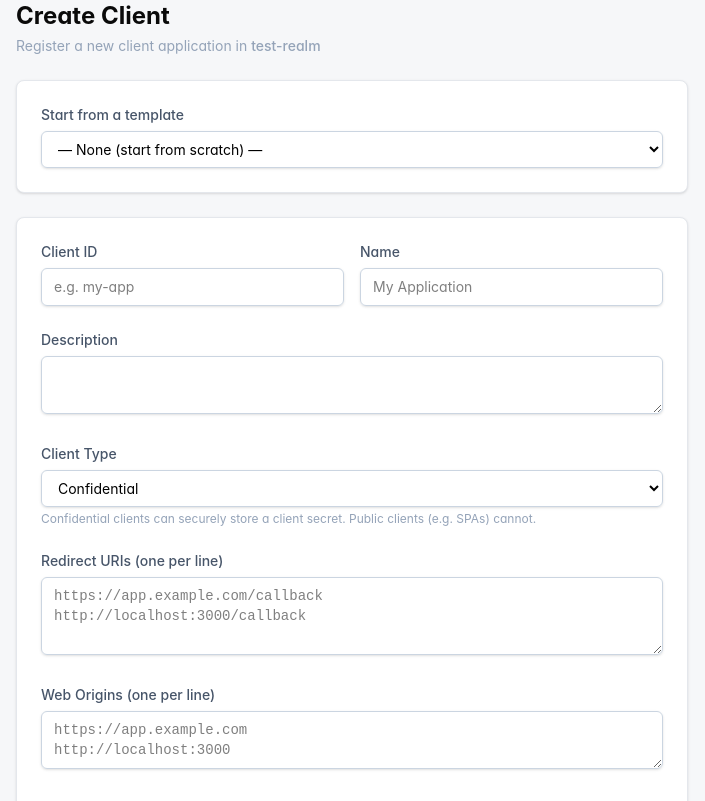
Test: ClientCreatePage › shows an error message when the API returns an error
Type "duplicate" into the field labelled "Client ID".
click(192, 287); type("duplicate")  # box x1=41 y1=268 x2=344 y2=306
(page scrolled)
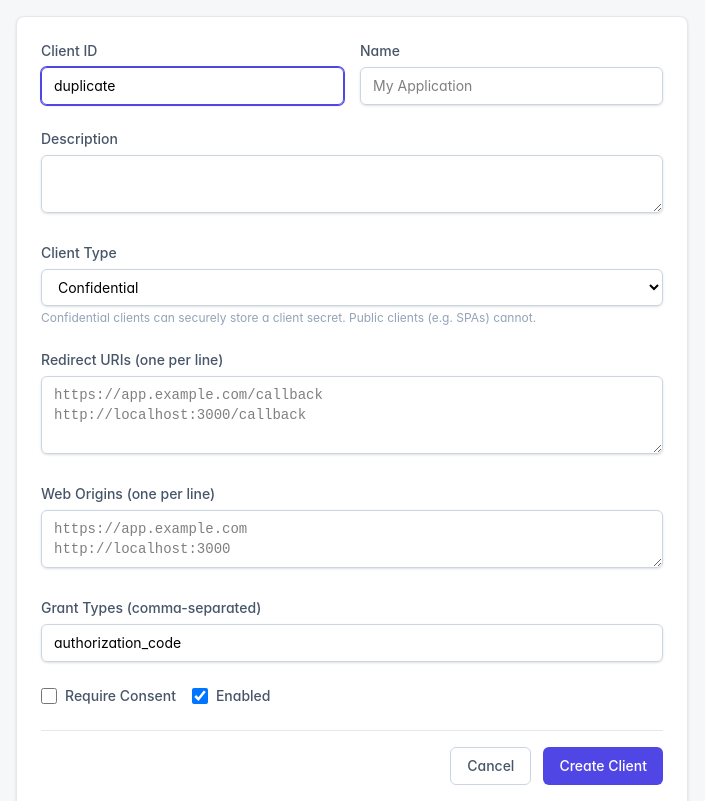
Click the button "Create Client".
click(603, 766)  # box x1=543 y1=747 x2=663 y2=785
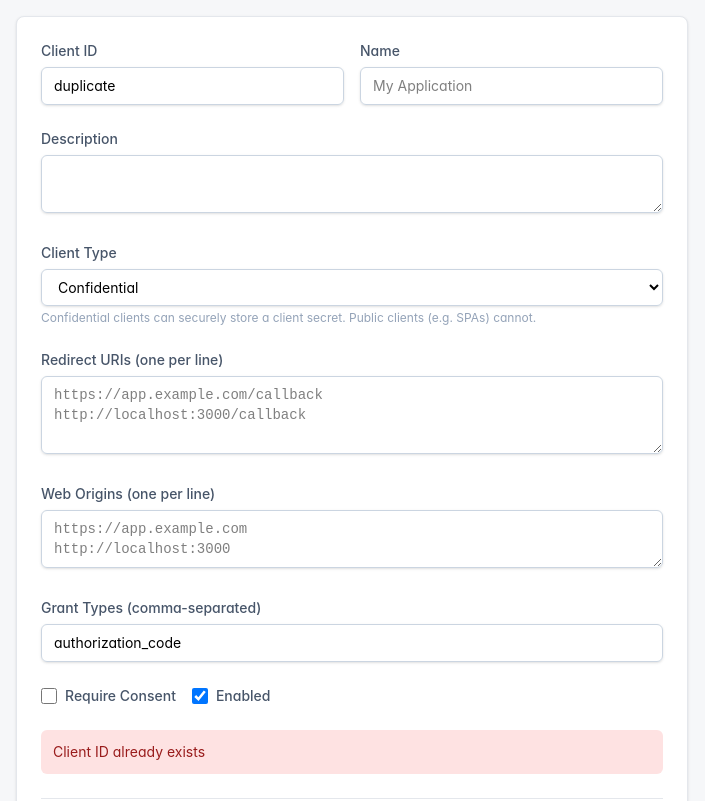
Check: the text "Client ID already exists" is shown, box x1=41 y1=730 x2=663 y2=774
